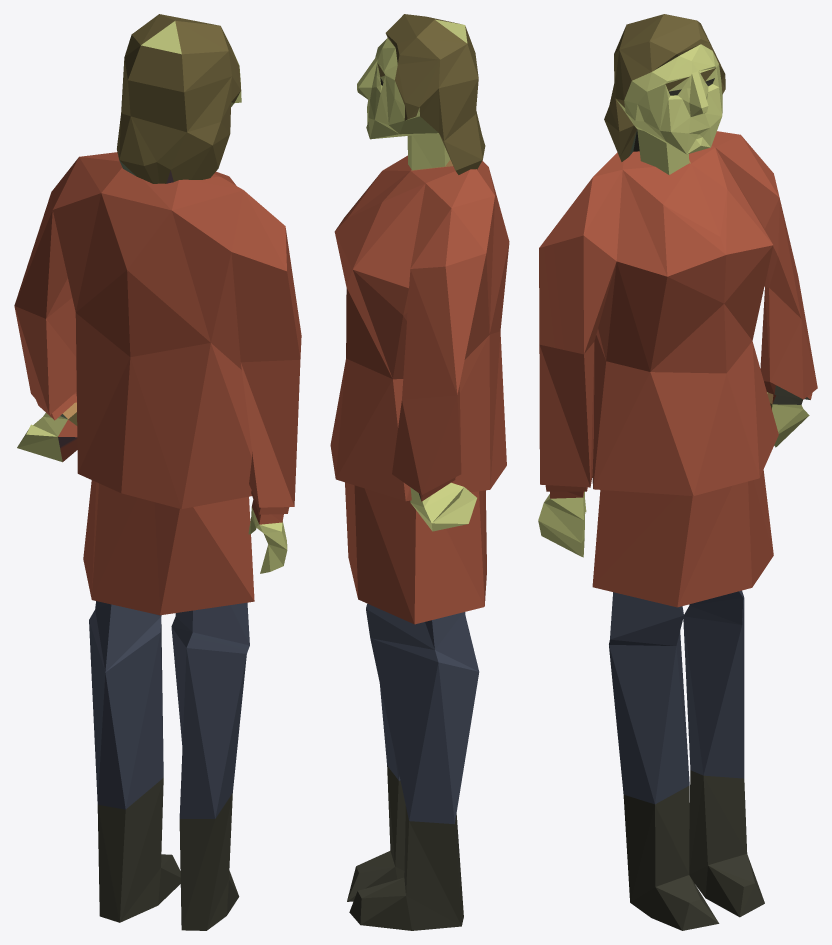
Rendered from woman.fbx.
The picture shows the model from 3 angles, left to right: view 1: azimuth 30°, elevation 25°; view 2: azimuth 150°, elevation 25°; view 3: azimuth 270°, elevation 25°; orthographic projection. The views are drawn at different scales.
Parts seen in each view (by area): view 1: group1302255902; view 2: group1302255902; view 3: group1302255902.
Part boxes in pixels (x1,y1,x2,y2): group1302255902: (14, 14, 301, 930); group1302255902: (330, 14, 509, 930); group1302255902: (538, 14, 817, 930).
Size of the model in its own units: 510 by 2333 by 670.
